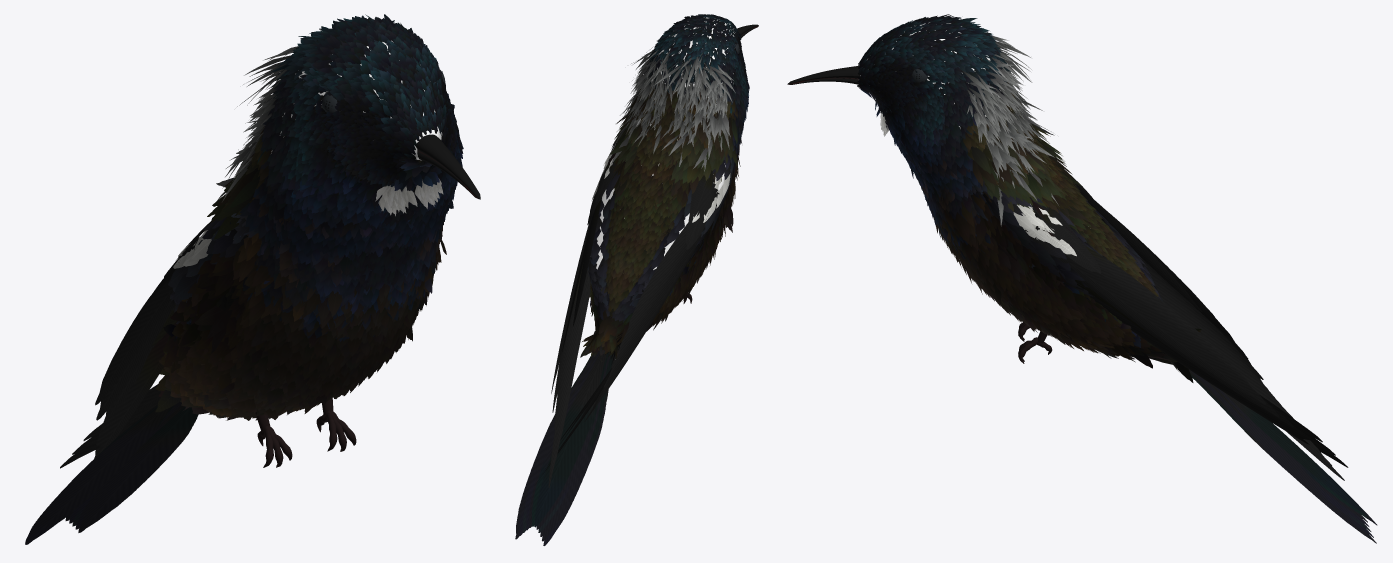
The model's file is manu-tui.glb.
3 renders of one model, left to right at view 1: azimuth 30°, elevation 25°; view 2: azimuth 150°, elevation 25°; view 3: azimuth 270°, elevation 25°, orthographic. The views are drawn at different scales.
Visible parts, largest first — view 1: contour_feathers, wing_and_tail_feathers, legs_and_feet, bill; view 2: contour_feathers, wing_and_tail_feathers, body_skin; view 3: contour_feathers, wing_and_tail_feathers, bill, legs_and_feet.
Part boxes in pixels (x1,y1,x2,y2): contour_feathers: [155, 14, 463, 420]; wing_and_tail_feathers: [25, 160, 418, 544]; legs_and_feet: [255, 69, 445, 467]; bill: [415, 134, 480, 199]; contour_feathers: [580, 14, 749, 364]; wing_and_tail_feathers: [515, 141, 735, 545]; body_skin: [596, 17, 735, 269]; contour_feathers: [857, 14, 1201, 382]; wing_and_tail_feathers: [967, 175, 1377, 543]; bill: [787, 66, 880, 84]; legs_and_feet: [912, 69, 1052, 363].
Bounding box in the file's own units: 0.0567 × 0.1708 × 0.1779.
4 materials, 1 textured.
